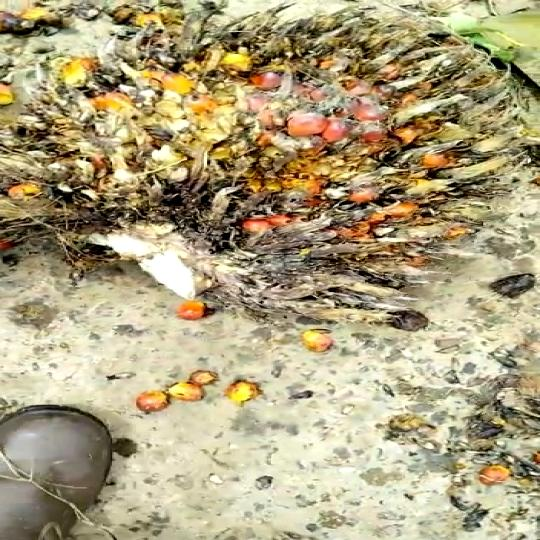terlalu masak: (0, 26, 535, 310)
